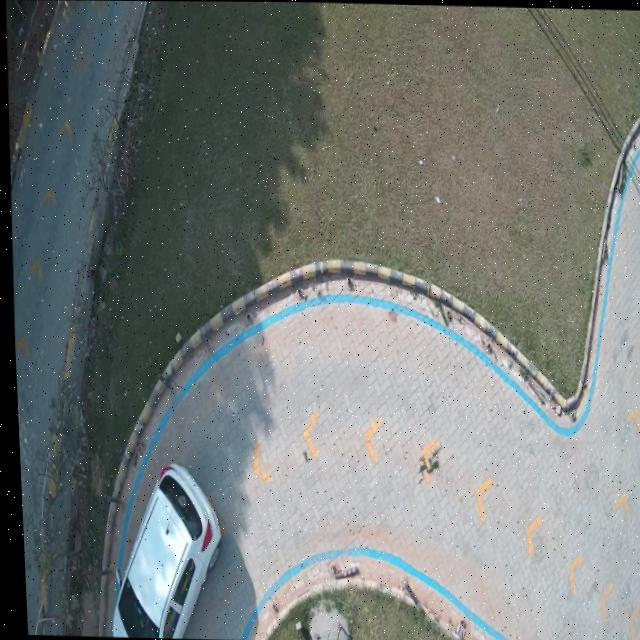car: (108, 464, 215, 636)
